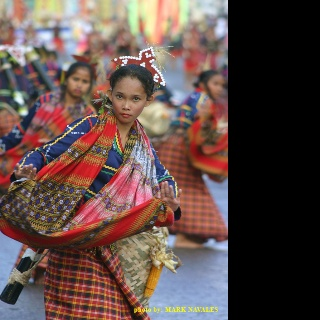without_mask: (110, 75, 149, 122), (67, 66, 91, 97)
